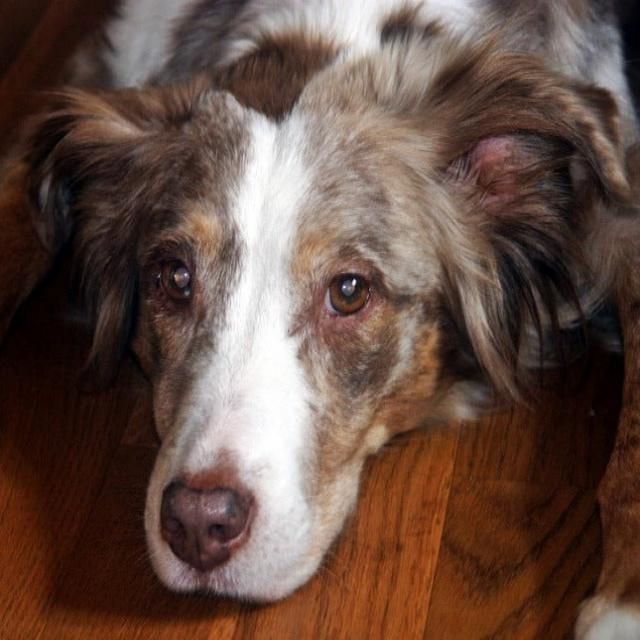eye: (319, 268, 378, 322), (154, 248, 197, 313)
